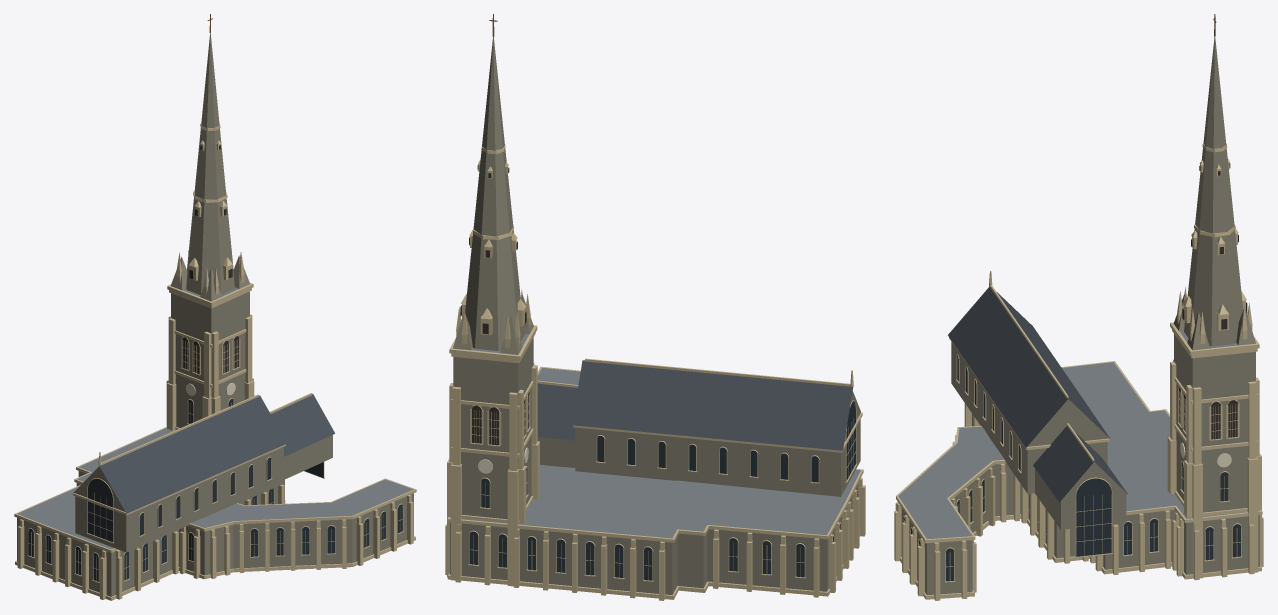
Rendered from st_mary_abbots.glb.
The picture shows the model from 3 angles, left to right: view 1: azimuth 30°, elevation 25°; view 2: azimuth 150°, elevation 25°; view 3: azimuth 270°, elevation 25°; orthographic projection. The views are drawn at different scales.
Bounding box in the file's own units: 63.53 × 86.92 × 53.26.
